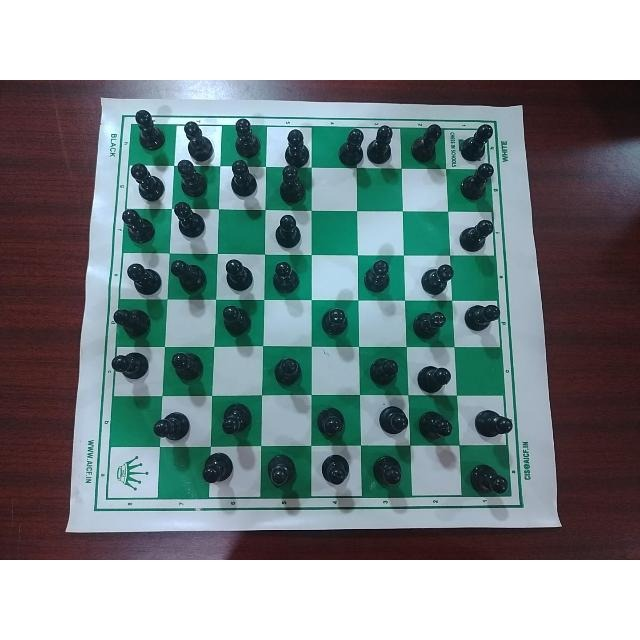black-pawn: (466, 459, 514, 495), (416, 403, 457, 445), (470, 402, 517, 438), (415, 258, 456, 298), (373, 401, 412, 443), (170, 255, 210, 295), (131, 108, 167, 152), (181, 117, 217, 161), (152, 405, 196, 441), (415, 355, 454, 394), (119, 208, 159, 246), (230, 115, 263, 161), (112, 304, 155, 339), (458, 163, 496, 202), (172, 201, 210, 240), (175, 158, 211, 199), (460, 303, 501, 339), (408, 123, 443, 165), (411, 305, 451, 341), (202, 449, 238, 489), (264, 450, 299, 491), (280, 126, 314, 168), (458, 121, 494, 160), (128, 164, 167, 200), (457, 216, 496, 252), (124, 259, 163, 295), (315, 401, 351, 440), (365, 124, 397, 166), (320, 452, 355, 490), (229, 158, 261, 199), (110, 350, 152, 381), (169, 350, 207, 384), (371, 452, 405, 490), (336, 126, 365, 170), (222, 258, 257, 294), (218, 402, 253, 438), (364, 259, 396, 298), (271, 214, 305, 249), (272, 353, 306, 388), (221, 301, 254, 337), (276, 164, 305, 204), (368, 355, 402, 389), (272, 260, 304, 296), (318, 305, 352, 338)
